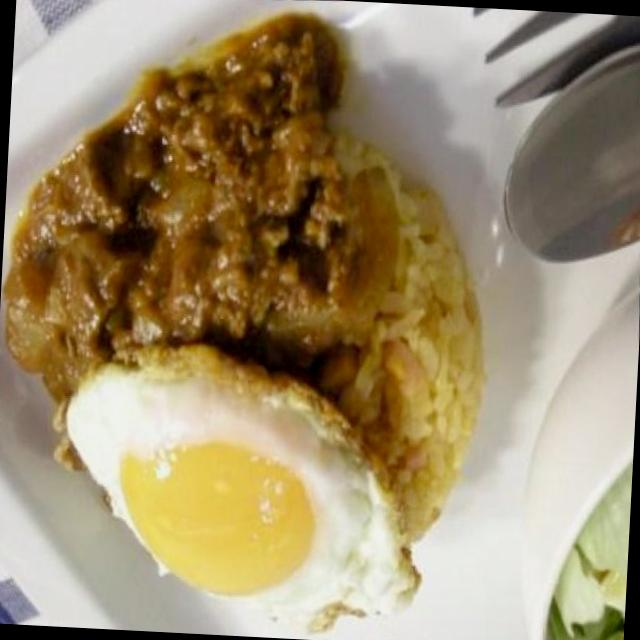Egg: (47, 334, 415, 640)
